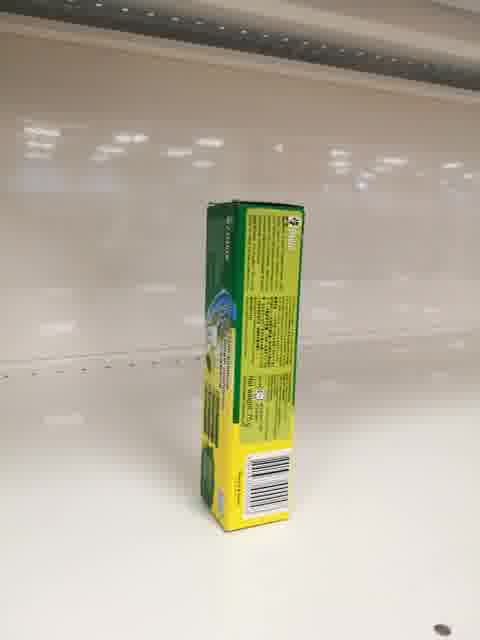toothpaste: (199, 198, 304, 532)
